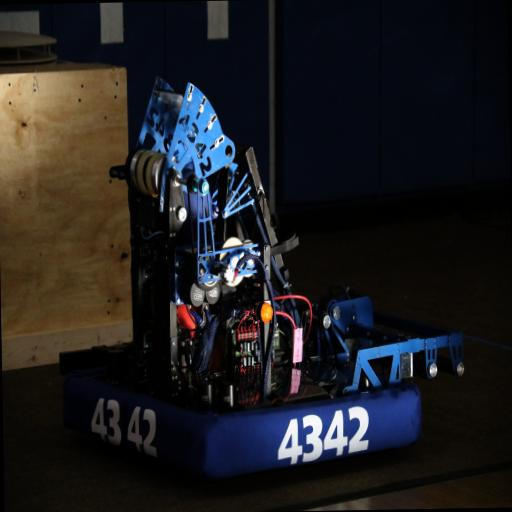robot: (59, 73, 467, 483)
